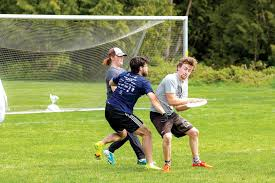disc: (187, 95, 208, 111)
